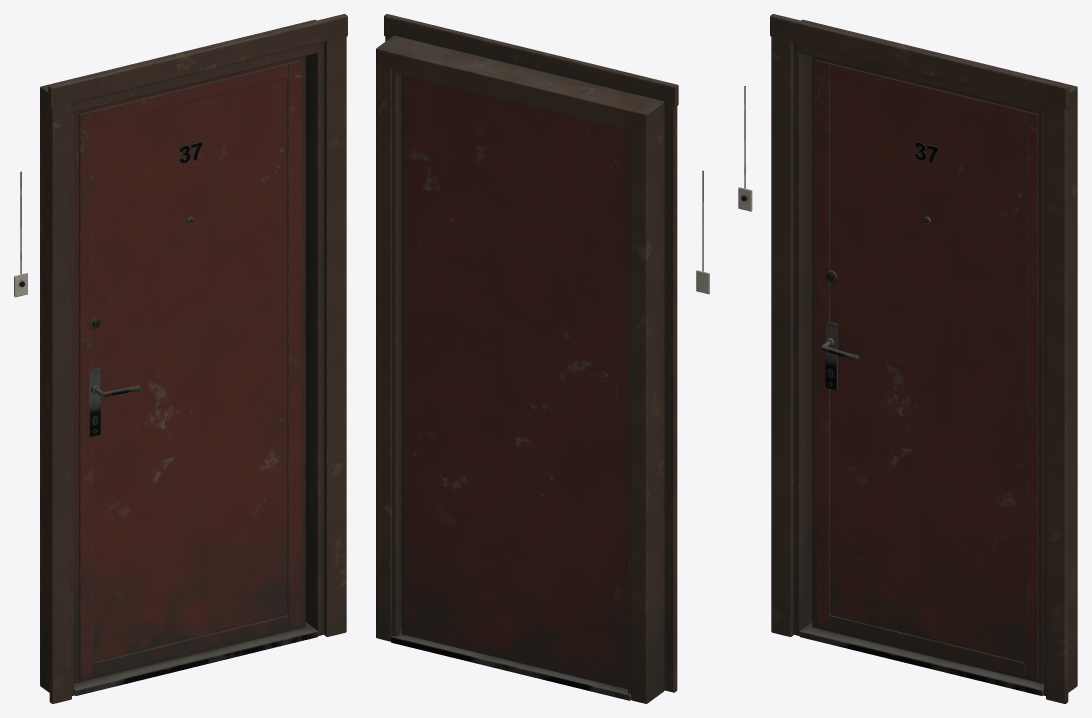
Rendered from ApartmentDoor.fbx.
The picture shows the model from 3 angles, left to right: view 1: azimuth 30°, elevation 25°; view 2: azimuth 150°, elevation 25°; view 3: azimuth 330°, elevation 25°; orthographic projection.
Parts seen in each view (by area): view 1: Door_Leaf, Door_Frame; view 2: Door_Leaf, Door_Frame; view 3: Door_Leaf, Door_Frame.
Part boxes in pixels (x1,y1,x2,y2): Door_Leaf: (74,56,305,683); Door_Frame: (14,14,347,703); Door_Leaf: (402,75,627,689); Door_Frame: (376,14,709,703); Door_Leaf: (812,56,1043,683); Door_Frame: (738,14,1077,703).
Bounding box in the file's own units: 122 × 218 × 15.75.
1 material, 1 textured.
